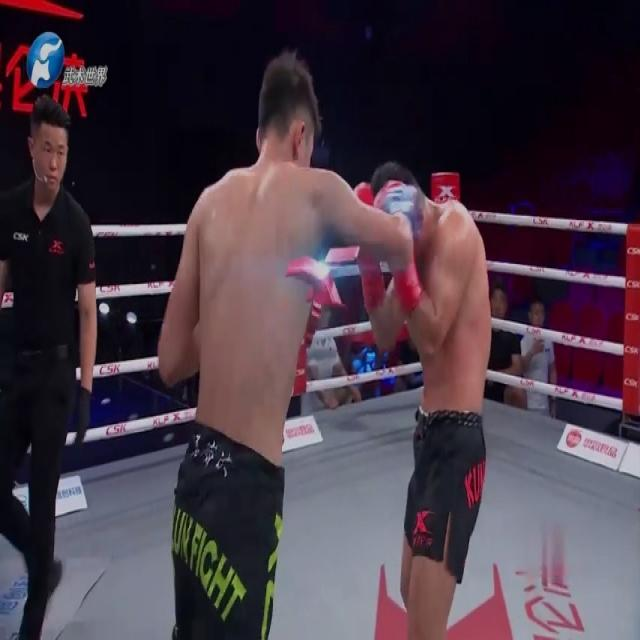fight: (149, 44, 498, 638)
non-fight: (0, 88, 125, 639)
